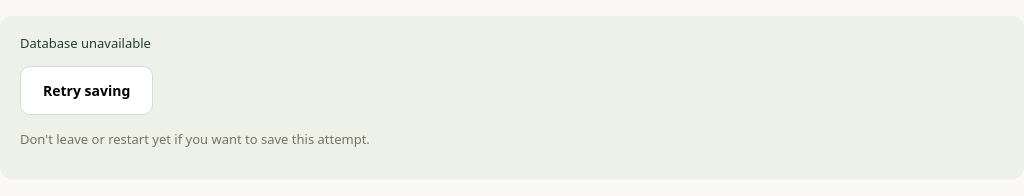
Test: result saving › keeps the same attempt ID when retrying a failed save
This screenshot has width=1024, height=196.
Expected: the message reads "Database unavailable", x1=20 y1=34 x2=151 y2=52
What coordinates should you click on to do the following:
click the button "Retry saving"
I would click on:
 (87, 91)
Its box is x1=20 y1=66 x2=153 y2=115.
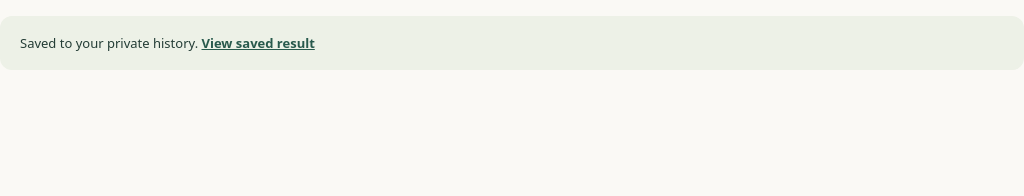
Expected: the link "View saved result" is shown, x1=202 y1=34 x2=315 y2=52
